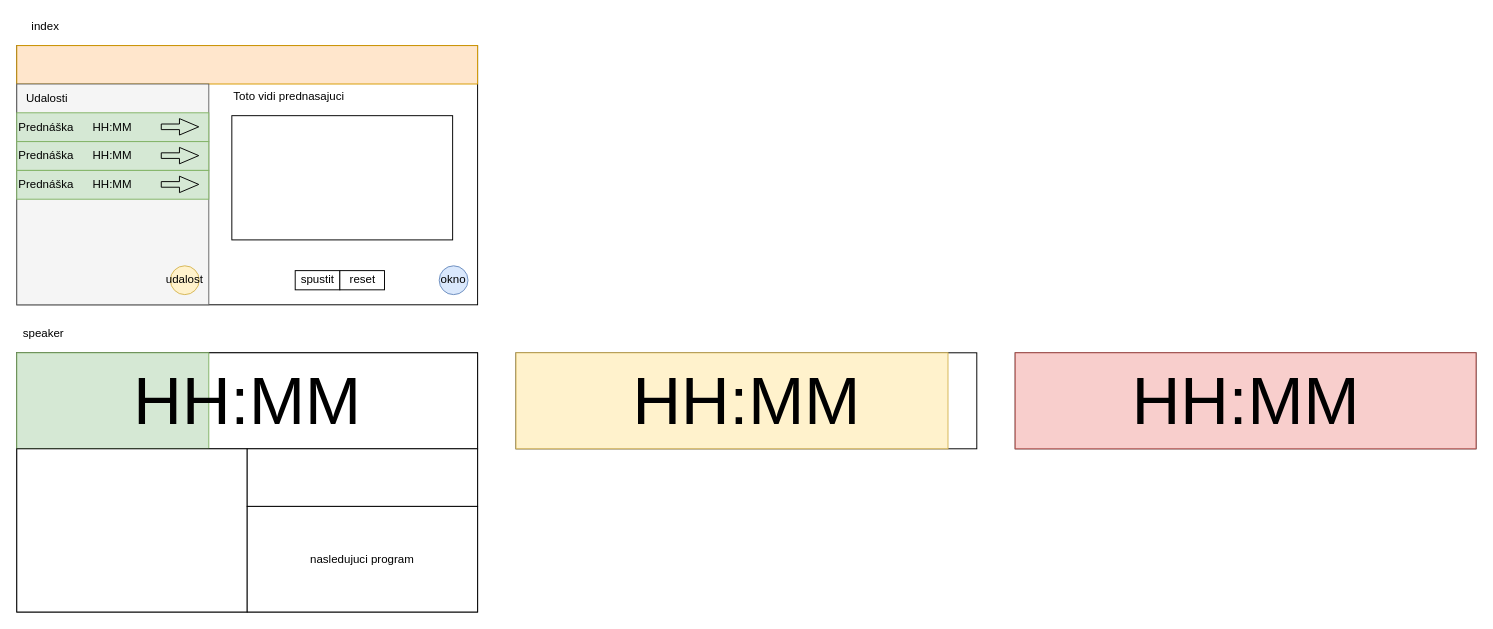
Some shapes in this 1493 by 629 pixel diagram are drawn without their labels. The shapes that lost their labels are listed below. From the top down, each one's centre as x and y in pixels, then its label:
At pixel 247 64: "navbar".
At pixel 362 477: "Aktuálny čas: HH:MM".
At pixel 131 530: "sprava".
